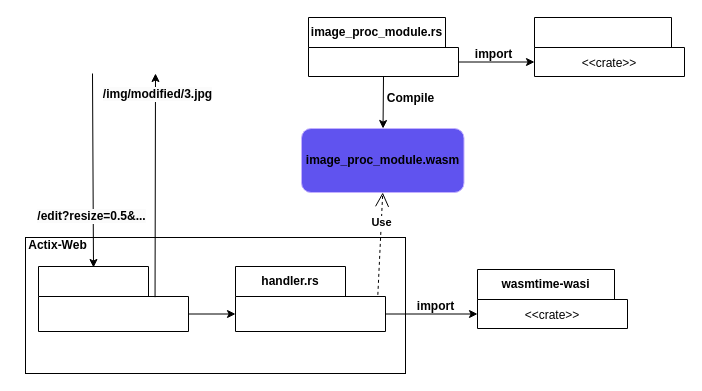
Image size: 702x391. Some labels were removed from this diagram. The centre of each missing label's shape, as x and y in pixels:
image: (x=609, y=46)
main.rs: (x=113, y=299)
